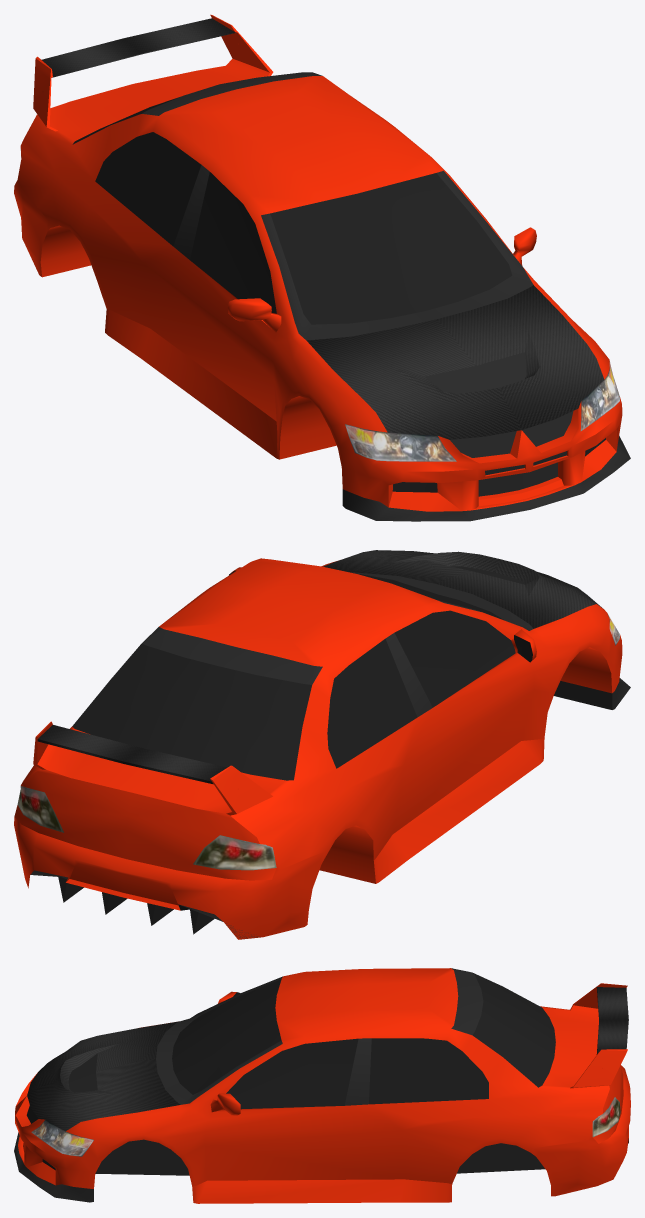
File: ModernRally.fbx
The picture shows the model from 3 angles, top to bottom: view 1: azimuth 30°, elevation 25°; view 2: azimuth 150°, elevation 25°; view 3: azimuth 270°, elevation 25°; orthographic projection. The views are drawn at different scales.
Visible parts, largest first — view 1: Plane; view 2: Plane; view 3: Plane.
Boxes of the visible parts, x1,y1,x2,y2 form: Plane: (14, 14, 630, 521); Plane: (14, 550, 630, 939); Plane: (14, 968, 630, 1203).
Bounding box in the file's own units: 131 × 86.78 × 304.
